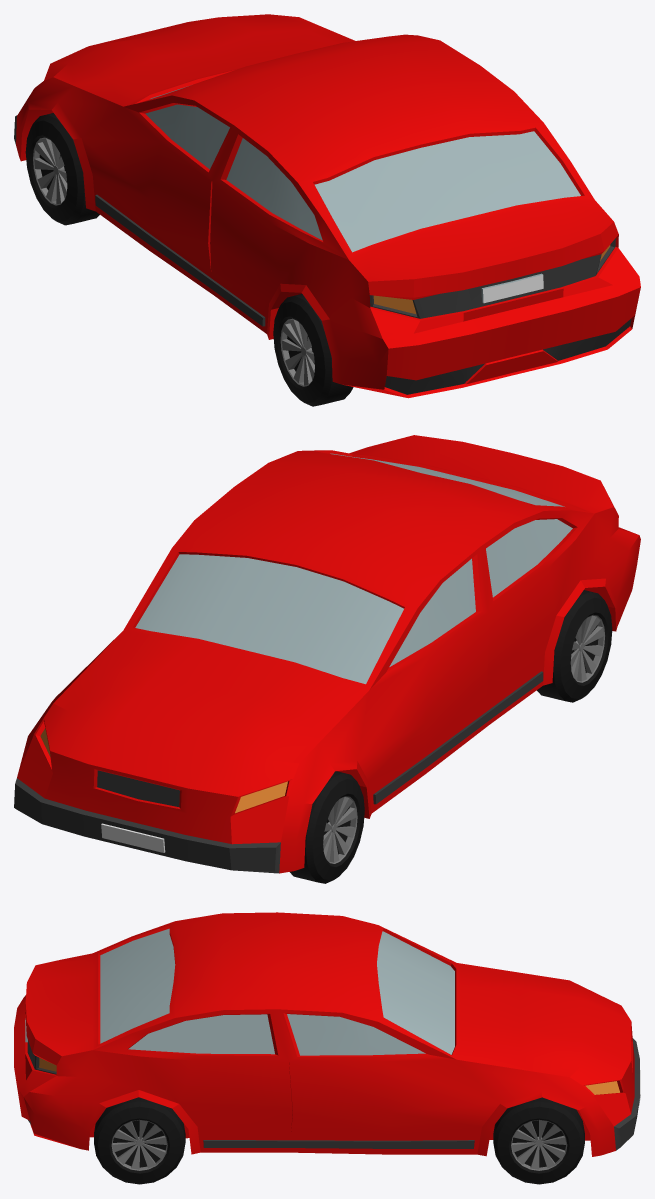
Rendered from Vehicle_02.fbx.
3 renders of one model, top to bottom at view 1: azimuth 30°, elevation 25°; view 2: azimuth 150°, elevation 25°; view 3: azimuth 270°, elevation 25°, orthographic. The views are drawn at different scales.
Parts seen in each view (by area): view 1: Cylinder.012; view 2: Cylinder.012; view 3: Cylinder.012.
Boxes of the visible parts, x1,y1,x2,y2 form: Cylinder.012: [14, 14, 640, 406]; Cylinder.012: [14, 435, 640, 883]; Cylinder.012: [14, 912, 640, 1184].
Size of the model in its own units: 844 by 270 by 364.
